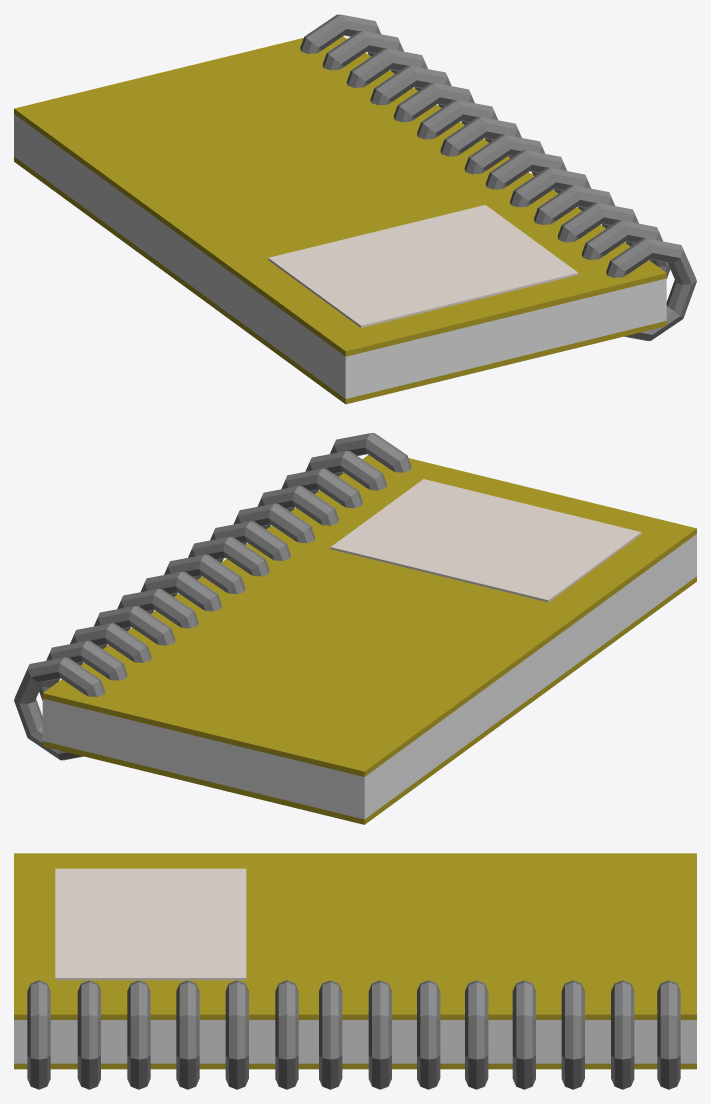
The model's file is Cuaderno.fbx.
3 renders of one model, top to bottom at view 1: azimuth 30°, elevation 25°; view 2: azimuth 150°, elevation 25°; view 3: azimuth 270°, elevation 25°, orthographic. The views are drawn at different scales.
Visible parts, largest first — view 1: Cuaderno; view 2: Cuaderno; view 3: Cuaderno.
Part boxes in pixels (box(x1,y1,x2,y2)): Cuaderno: box(14, 14, 696, 404); Cuaderno: box(14, 433, 696, 824); Cuaderno: box(14, 853, 696, 1089).
Size of the model in its own units: 4494 by 1216 by 7126.
